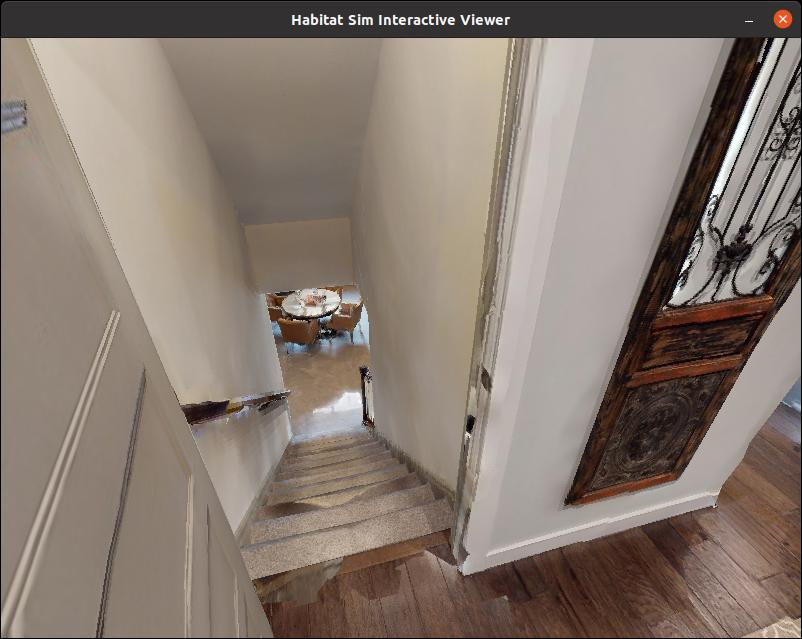door-frame: (0, 0, 583, 619)
stairs: (168, 303, 491, 597)
